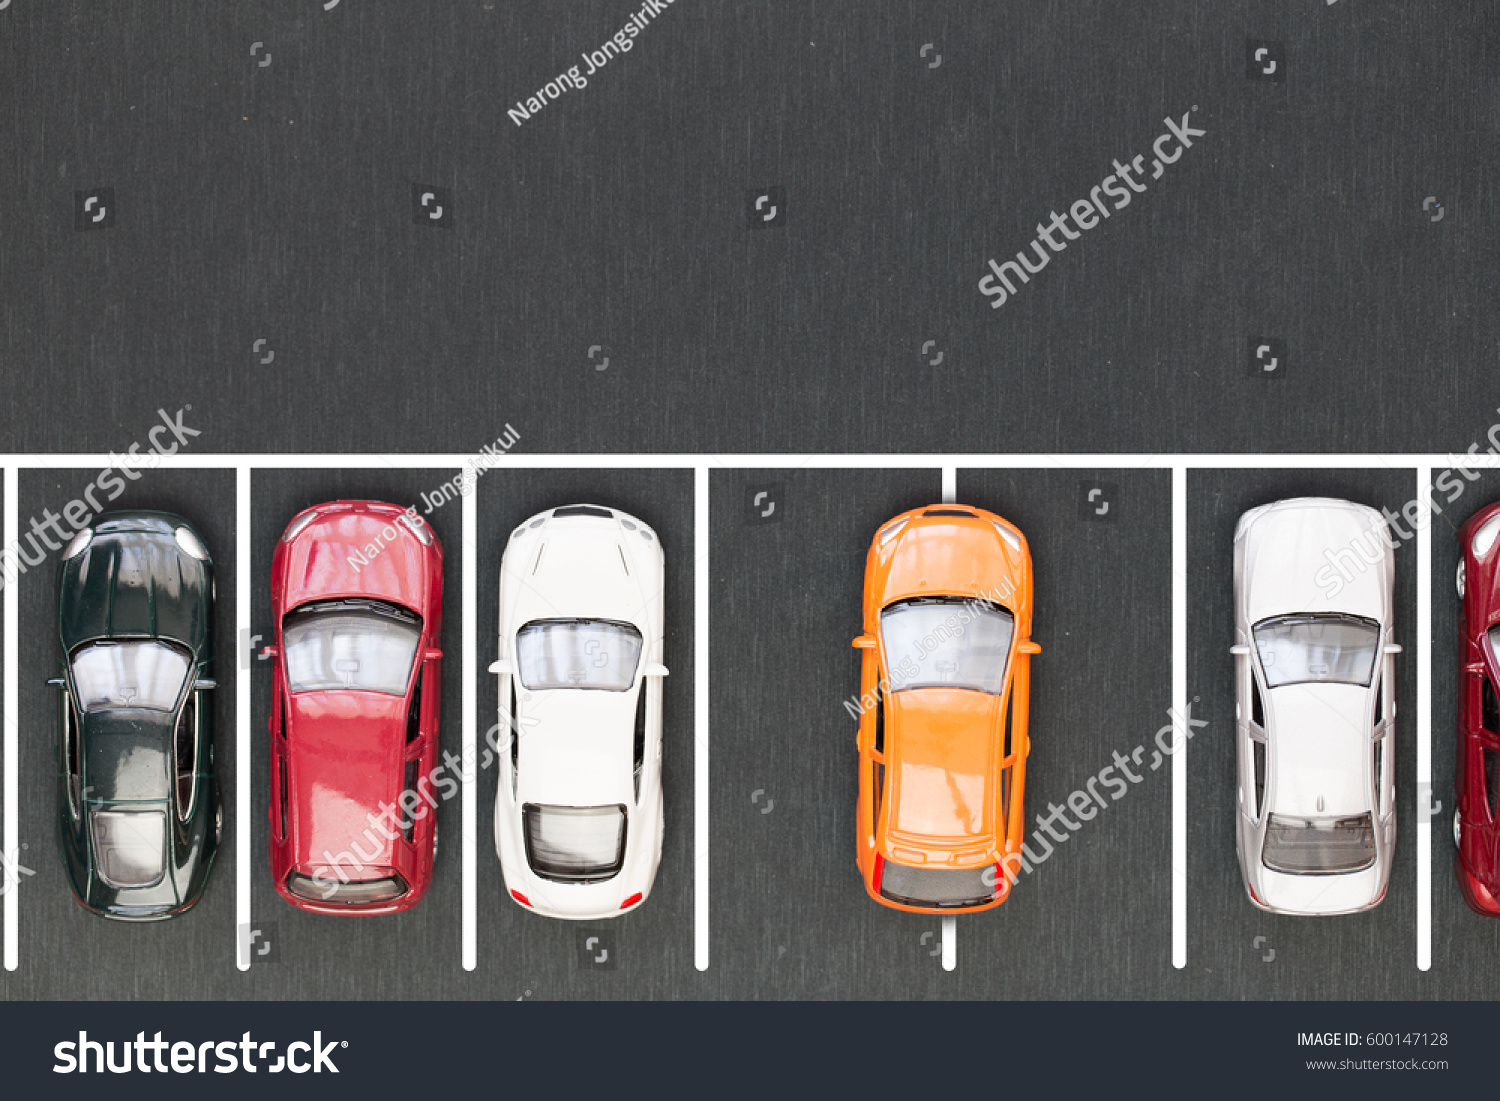Car: (844, 501, 1042, 922), (483, 496, 675, 929), (264, 495, 457, 919), (1224, 490, 1405, 923), (1446, 490, 1500, 924)
LaneMark: (5, 452, 1500, 470), (457, 467, 479, 975), (233, 465, 254, 973), (692, 467, 712, 973), (1, 467, 20, 971), (1416, 465, 1434, 975), (1170, 465, 1188, 972)
